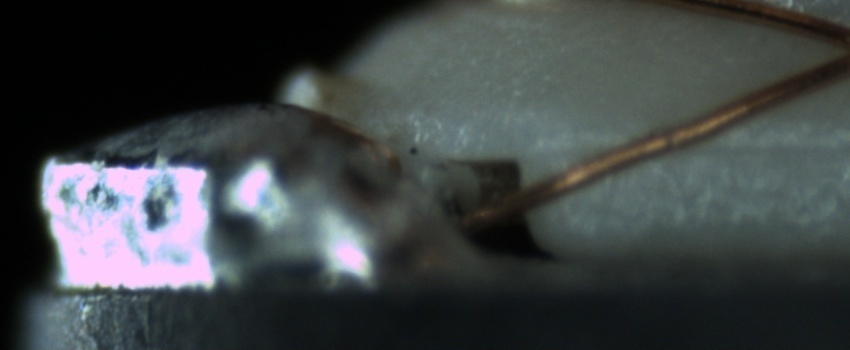DL: (601, 112, 849, 181)
